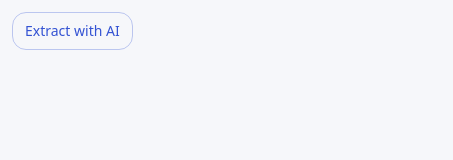
Scenario: distinguishes directory pages from extracted apartments
Click the button "Extract with AI" at (72, 31), box left=12, top=12, right=133, bottom=50
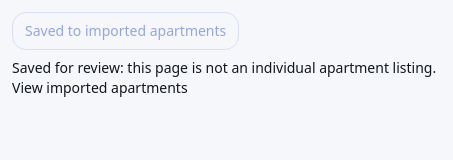
Check: the text "not an individual apartment listing" is shown, box left=12, top=58, right=436, bottom=77
